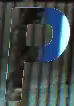Parking: (8, 4, 71, 105)
